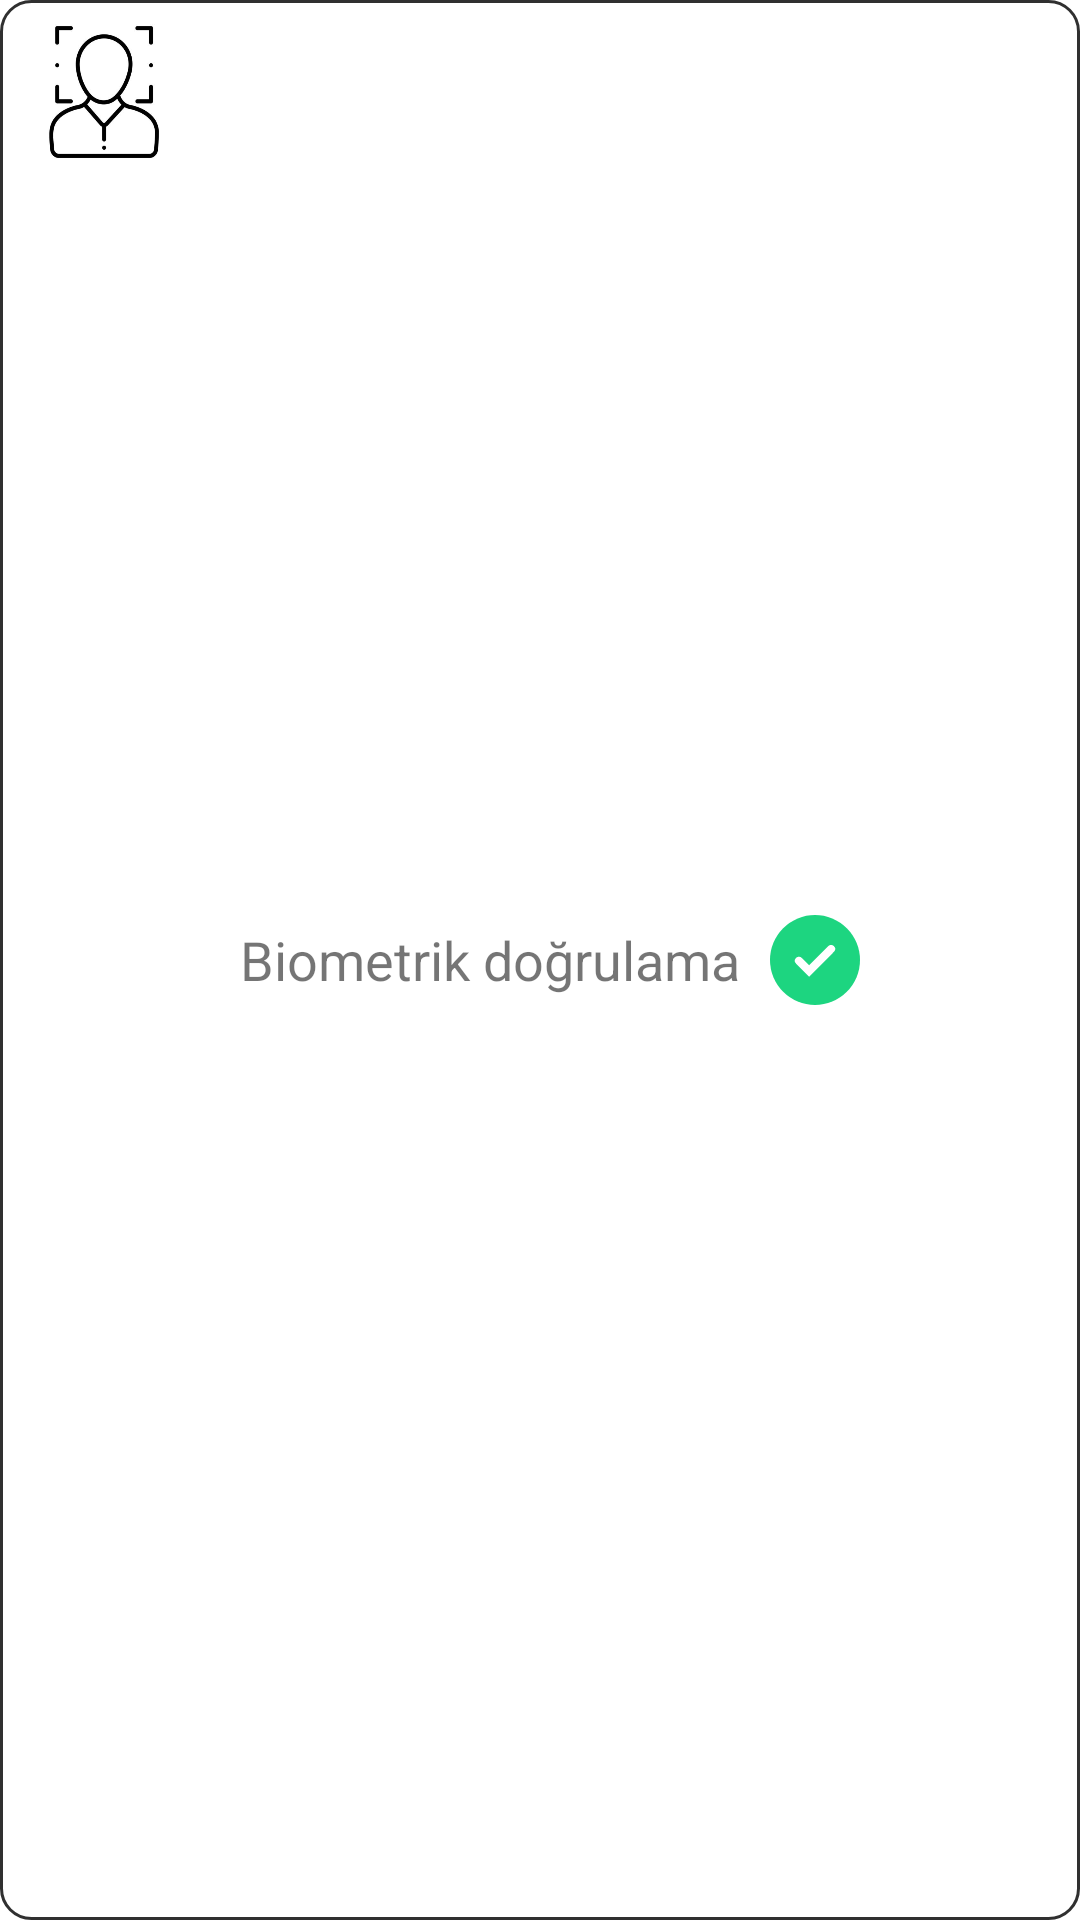

Named icons in this screenshot (1080w x 1920h) and their bounding boxes, (x1, y1, x2, y2):
face reco: (49, 26, 159, 158)
success: (770, 915, 860, 1005)
